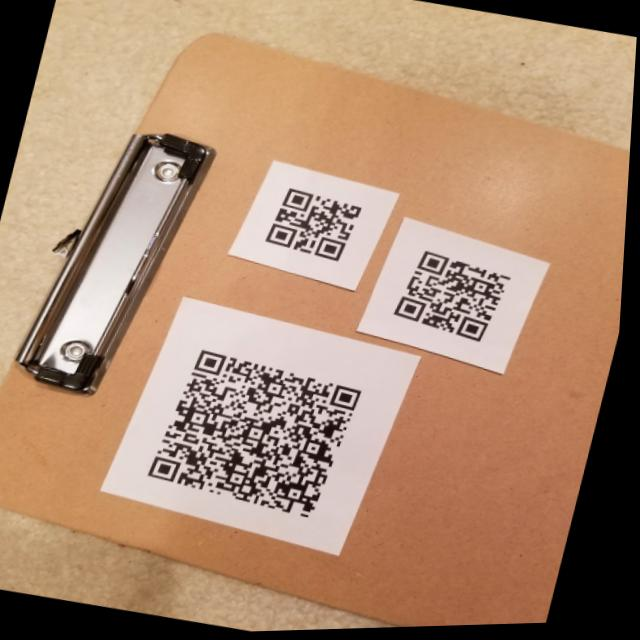QR_CODE: (130, 324, 390, 545), (377, 232, 535, 360), (249, 171, 381, 281)
